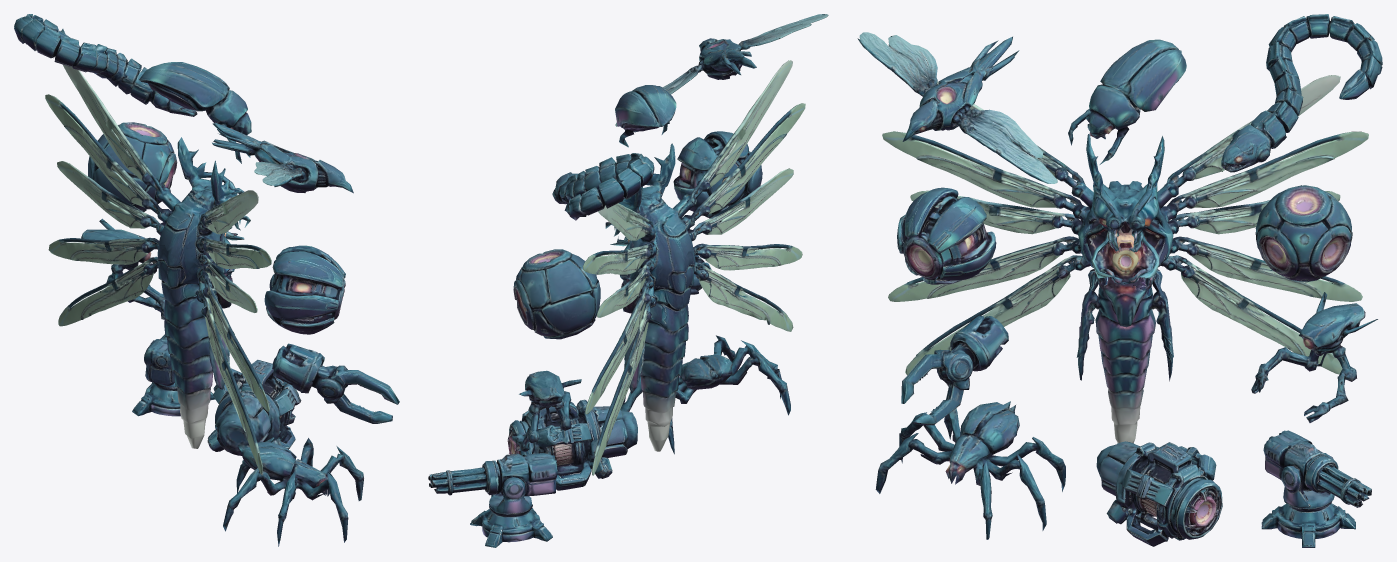
Rendered from Boss4.glb.
The picture shows the model from 3 angles, left to right: view 1: azimuth 30°, elevation 25°; view 2: azimuth 150°, elevation 25°; view 3: azimuth 270°, elevation 25°; orthographic projection. The views are drawn at different scales.
Parts seen in each view (by area): view 1: tripo_node_e433dd52-4b16-485d-be82-8a322d79fe07; view 2: tripo_node_e433dd52-4b16-485d-be82-8a322d79fe07; view 3: tripo_node_e433dd52-4b16-485d-be82-8a322d79fe07.
Part boxes in pixels (x1,y1,x2,y2): tripo_node_e433dd52-4b16-485d-be82-8a322d79fe07: (14, 14, 399, 546); tripo_node_e433dd52-4b16-485d-be82-8a322d79fe07: (428, 14, 828, 547); tripo_node_e433dd52-4b16-485d-be82-8a322d79fe07: (857, 14, 1382, 547).
Size of the model in its own units: 0.4753 by 0.9167 by 0.9804.
1 material, 1 textured.
